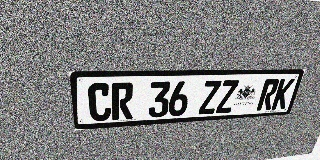3: (148, 81, 171, 118)
6: (168, 81, 191, 117)
C: (87, 83, 111, 122)
K: (271, 79, 295, 110)
R: (112, 82, 134, 120), (256, 79, 280, 111)
Z: (198, 80, 222, 114), (216, 80, 239, 113)
